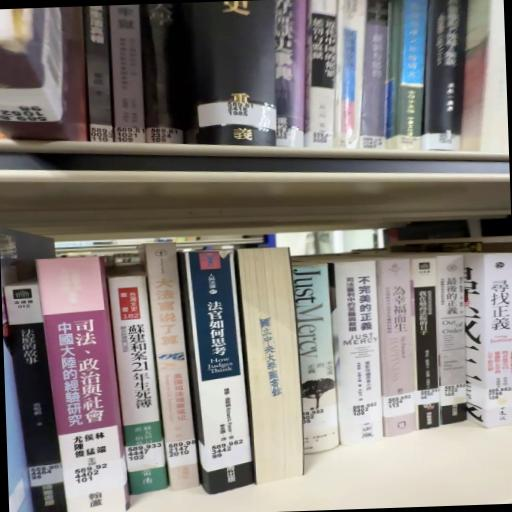backward: (233, 246, 302, 487)
book: (33, 255, 127, 512), (182, 248, 255, 495), (106, 270, 168, 494), (142, 248, 196, 494), (294, 258, 340, 459), (386, 0, 433, 139), (356, 0, 398, 148)
